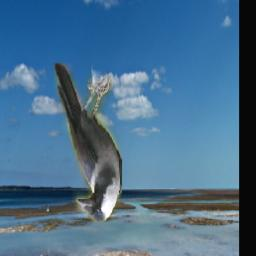Crow: (55, 64, 123, 224)
